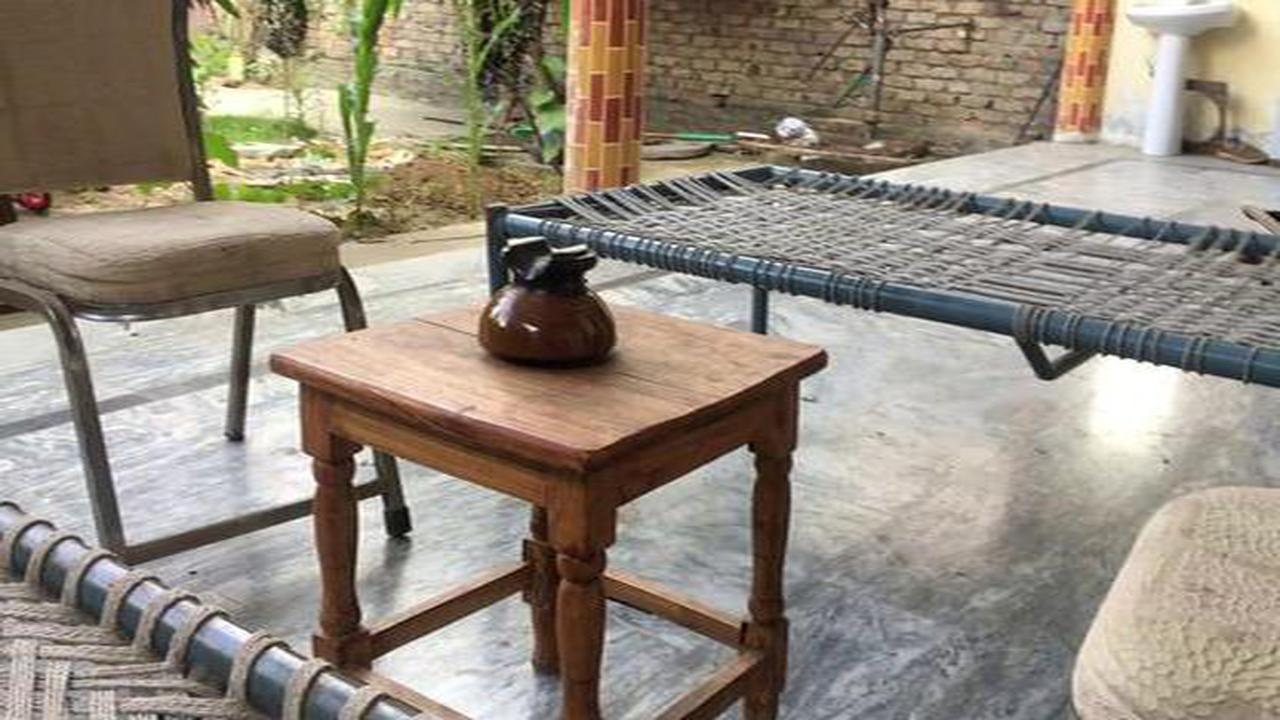insulator_pin: (468, 219, 628, 374)
